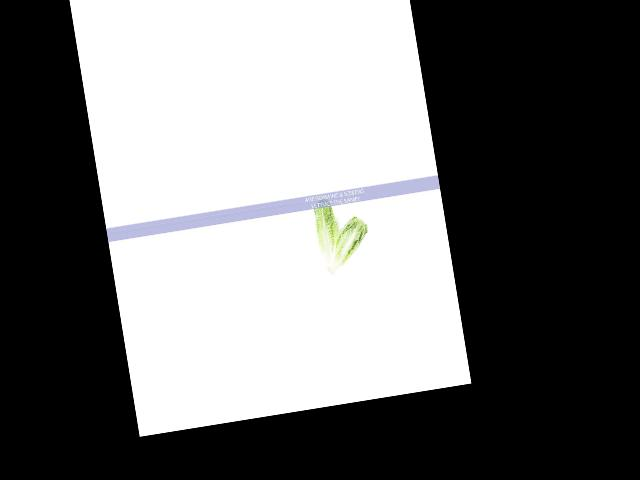lettuce: (319, 212, 372, 282)
